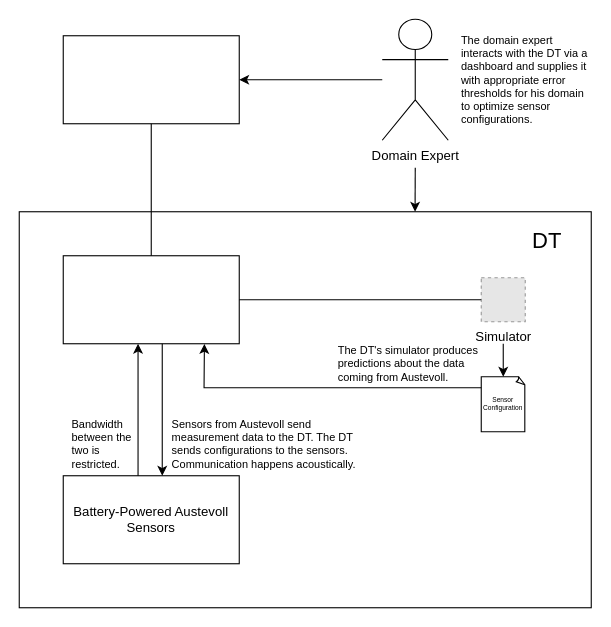
Some shapes in this 611 by 627 pixel diagram are drawn without their labels. Grey dashed boxes stand in for pictures. Here are the shapes that lost their labels. From the top down, the box of each, then its label:
(62, 35, 239, 124): Dashboard
(62, 255, 239, 344): Azure Digital Twin
